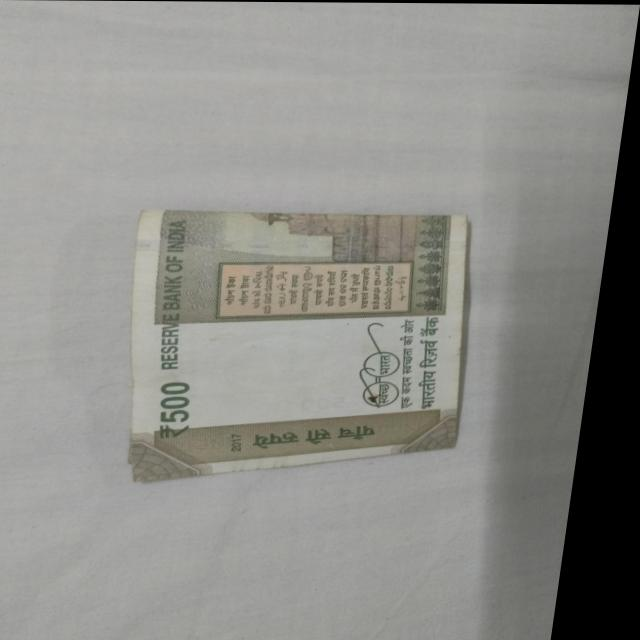Currency: (94, 200, 517, 486)
